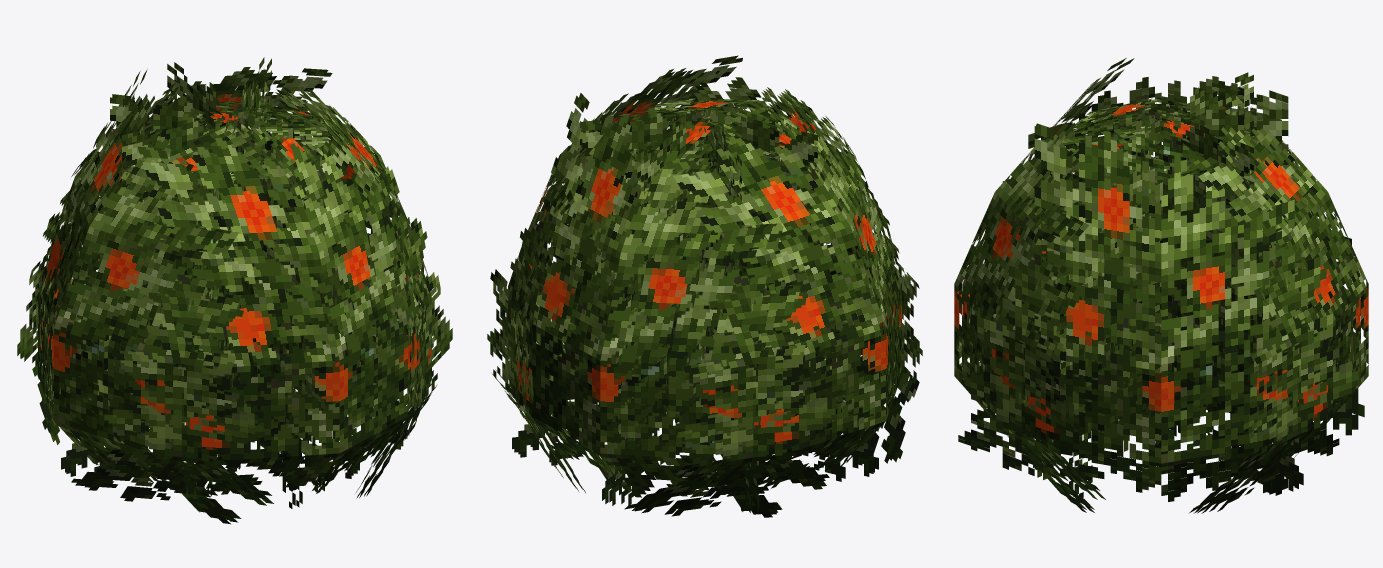
File: bush03_spring3.glb
3 renders of one model, left to right at view 1: azimuth 30°, elevation 25°; view 2: azimuth 150°, elevation 25°; view 3: azimuth 270°, elevation 25°, orthographic.
Visible parts, largest first — view 1: bush03; view 2: bush03; view 3: bush03.
Part boxes in pixels (<box>): bush03: <box>17,57,452,524</box>; bush03: <box>487,55,922,517</box>; bush03: <box>954,58,1368,513</box>.
Size of the model in its own units: 1.53 by 1.5 by 1.53.
Materials: 1 (1 with a texture image).
